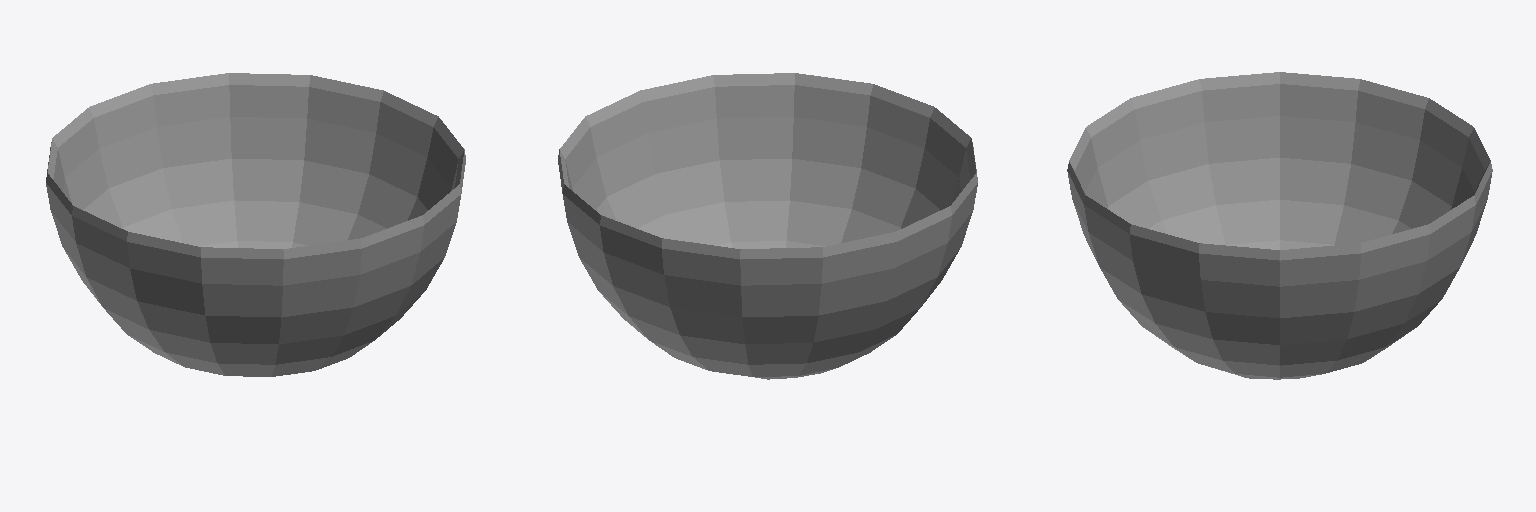
File: small_bowl.obj
3 renders of one model, left to right at view 1: azimuth 30°, elevation 25°; view 2: azimuth 150°, elevation 25°; view 3: azimuth 270°, elevation 25°, orthographic.
Visible parts, largest first — view 1: sm.bowl; view 2: sm.bowl; view 3: sm.bowl.
Part boxes in pixels (bbox=[...]): sm.bowl: bbox=[46, 73, 465, 376]; sm.bowl: bbox=[558, 73, 977, 379]; sm.bowl: bbox=[1067, 72, 1492, 379].
Bounding box in the file's own units: 0.3832 × 0.1886 × 0.3832.